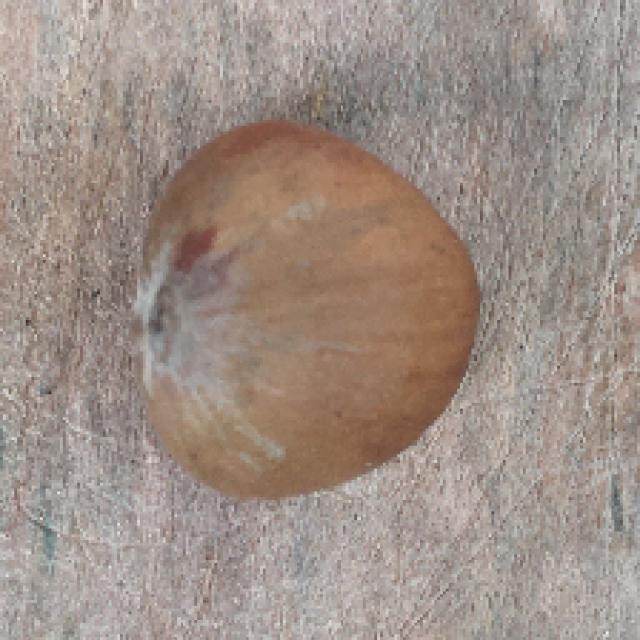DamagedHazelnut: (132, 118, 484, 498)
